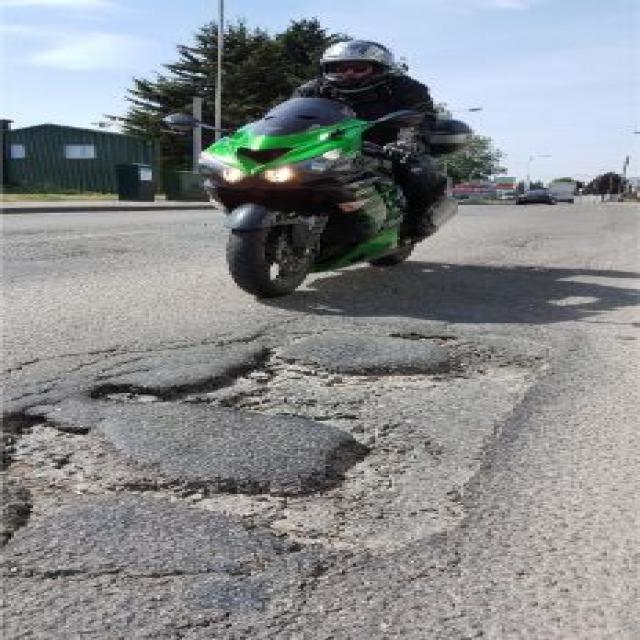pothole: (91, 336, 557, 562)
